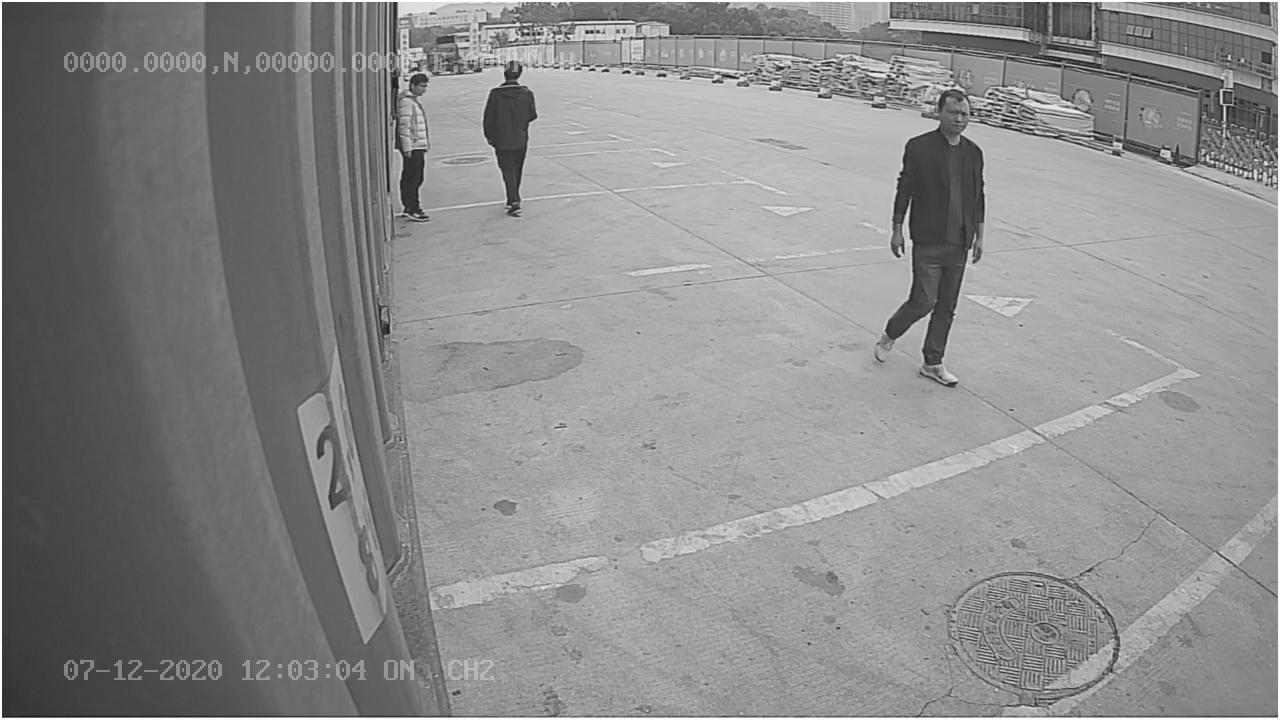person: (868, 84, 990, 385)
